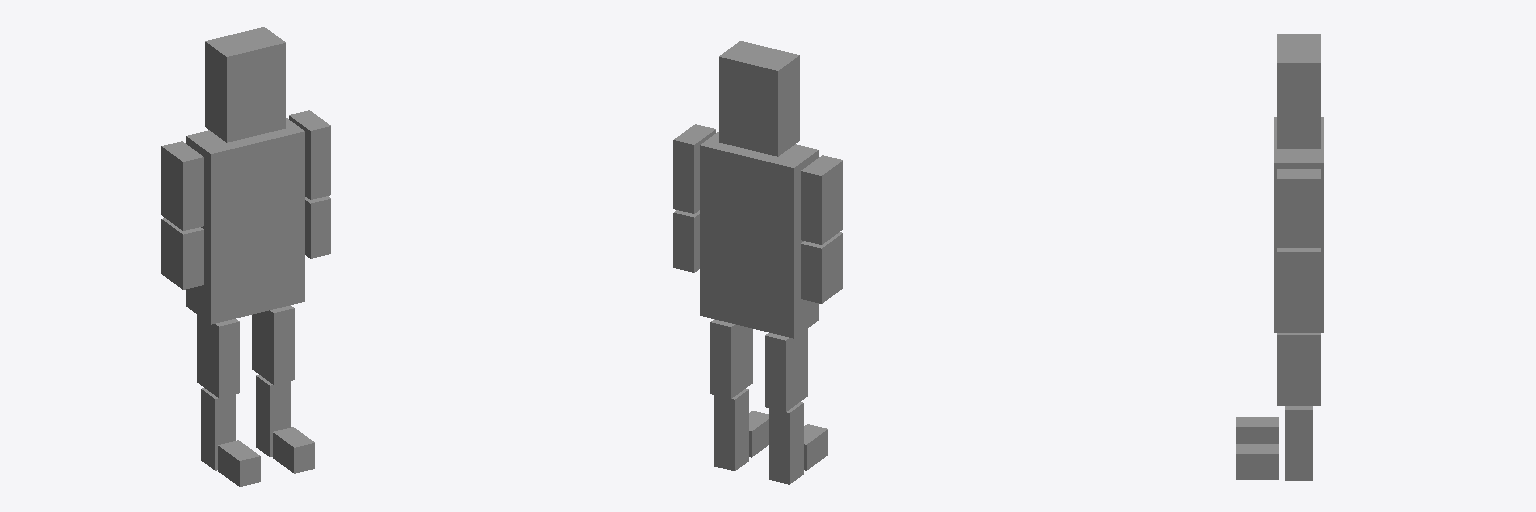
Rendered from robot.obj.
3 views of the same model, side by side, from view 1: azimuth 30°, elevation 25°; view 2: azimuth 150°, elevation 25°; view 3: azimuth 270°, elevation 25° (orthographic).
Parts seen in each view (by area): view 1: body, head, ruarm, ruleg, luleg, rlarm, luarm, llleg, rlleg, rfoot, lfoot, llarm; view 2: body, head, ruarm, ruleg, luleg, rlleg, llleg, rlarm, luarm, llarm, rfoot, lfoot; view 3: head, luarm, body, luleg, llarm, llleg, lfoot, rfoot.
Boxes of the visible parts, x1=… form: body: x1=186, y1=118, x2=304, y2=324; head: x1=205, y1=27, x2=285, y2=142; ruarm: x1=161, y1=141, x2=203, y2=230; ruleg: x1=197, y1=315, x2=239, y2=397; luleg: x1=252, y1=305, x2=294, y2=384; rlarm: x1=161, y1=218, x2=203, y2=289; luarm: x1=289, y1=110, x2=330, y2=199; llleg: x1=256, y1=375, x2=290, y2=456; rlleg: x1=201, y1=388, x2=235, y2=470; rfoot: x1=218, y1=440, x2=260, y2=486; lfoot: x1=273, y1=427, x2=314, y2=473; llarm: x1=305, y1=196, x2=330, y2=258; body: x1=700, y1=132, x2=818, y2=338; head: x1=719, y1=41, x2=799, y2=156; ruarm: x1=801, y1=155, x2=842, y2=244; ruleg: x1=765, y1=329, x2=807, y2=411; luleg: x1=710, y1=319, x2=752, y2=398; rlleg: x1=769, y1=402, x2=803, y2=484; llleg: x1=714, y1=389, x2=748, y2=470; rlarm: x1=801, y1=232, x2=842, y2=303; luarm: x1=673, y1=124, x2=715, y2=213; llarm: x1=673, y1=210, x2=699, y2=272; rfoot: x1=804, y1=424, x2=827, y2=470; lfoot: x1=749, y1=411, x2=768, y2=457; head: x1=1277, y1=34, x2=1320, y2=148; luarm: x1=1277, y1=169, x2=1320, y2=247; body: x1=1274, y1=117, x2=1323, y2=332; luleg: x1=1277, y1=333, x2=1320, y2=405; llarm: x1=1277, y1=248, x2=1320, y2=306; llleg: x1=1285, y1=406, x2=1312, y2=480; lfoot: x1=1236, y1=444, x2=1278, y2=479; rfoot: x1=1236, y1=417, x2=1278, y2=443.
Bounding box in the file's own units: 0.4402 × 1.18 × 0.2265.